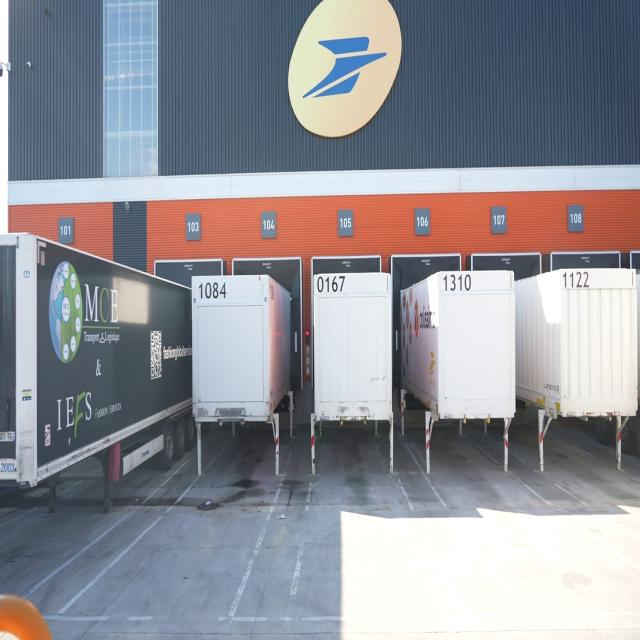Code: (194, 276, 228, 305), (560, 268, 592, 293), (442, 271, 473, 296), (314, 274, 348, 295)
